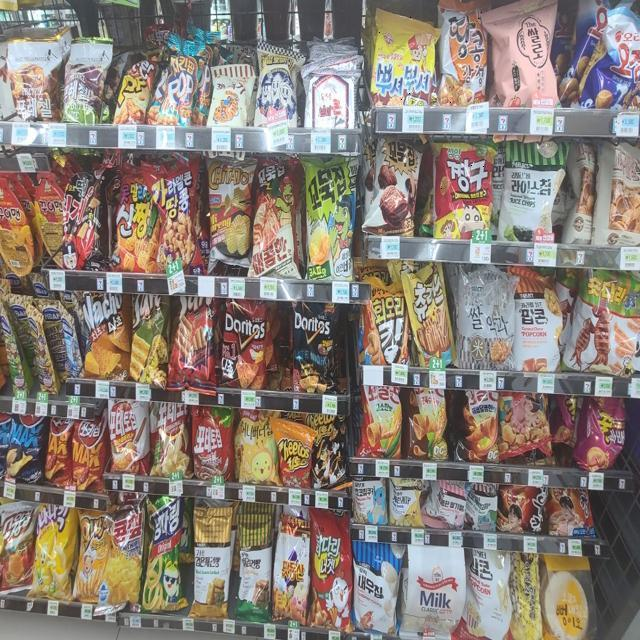product: (377, 13, 436, 112), (437, 146, 495, 242), (442, 1, 488, 108)
